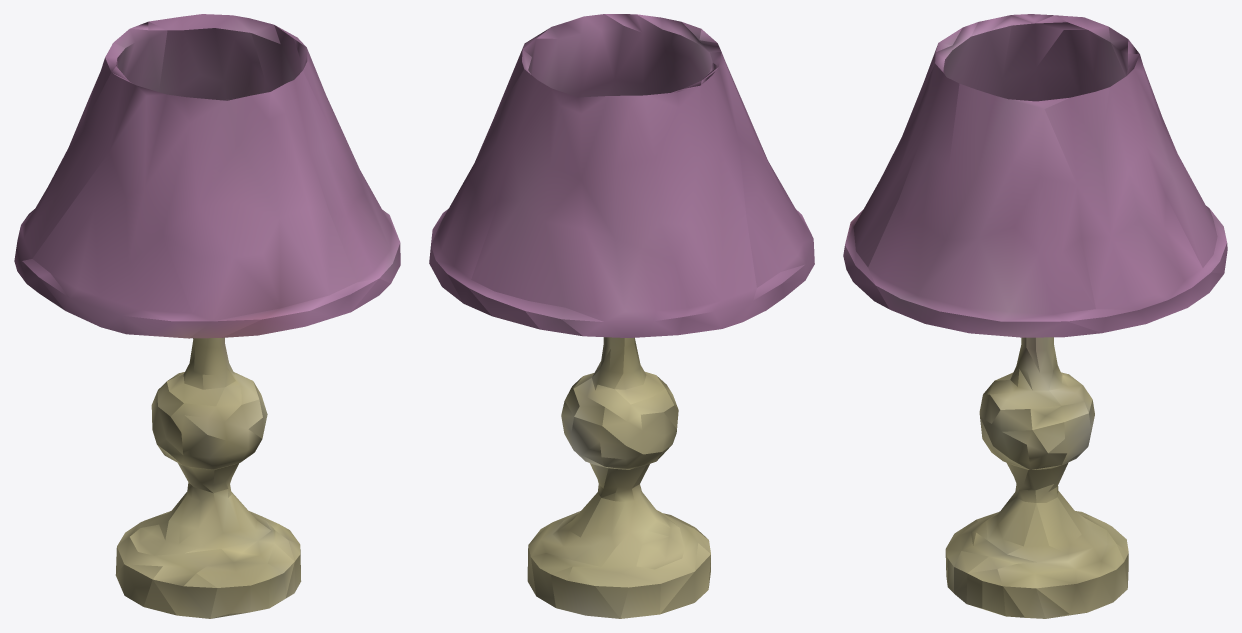
File: Lamp01.fbx
The picture shows the model from 3 angles, left to right: view 1: azimuth 30°, elevation 25°; view 2: azimuth 150°, elevation 25°; view 3: azimuth 270°, elevation 25°; orthographic projection.
Visible parts, largest first — view 1: Lamp01; view 2: Lamp01; view 3: Lamp01.
Part boxes in pixels (x1,y1,x2,y2): Lamp01: (14, 14, 400, 618); Lamp01: (429, 14, 814, 618); Lamp01: (843, 14, 1227, 618).
Bounding box in the file's own units: 47.02 × 71.05 × 47.15.
